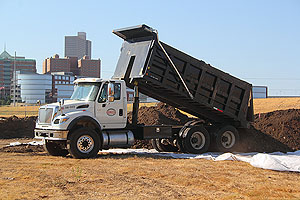truck: (31, 23, 253, 159)
